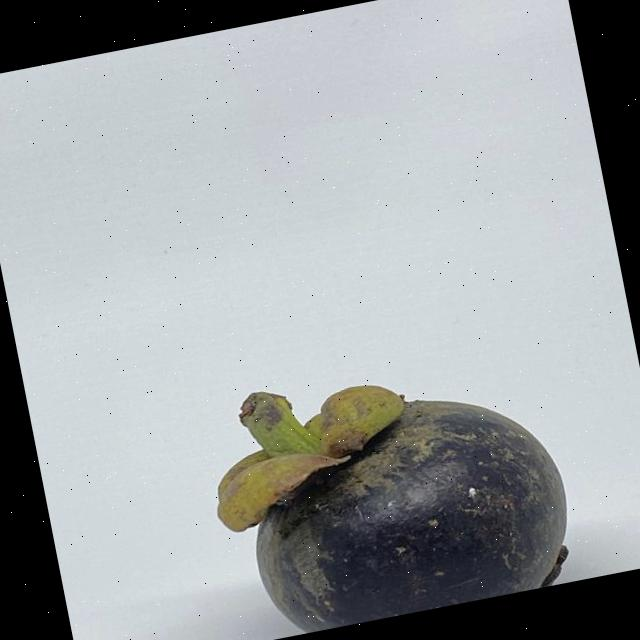mangosteen: (184, 297, 609, 640)
